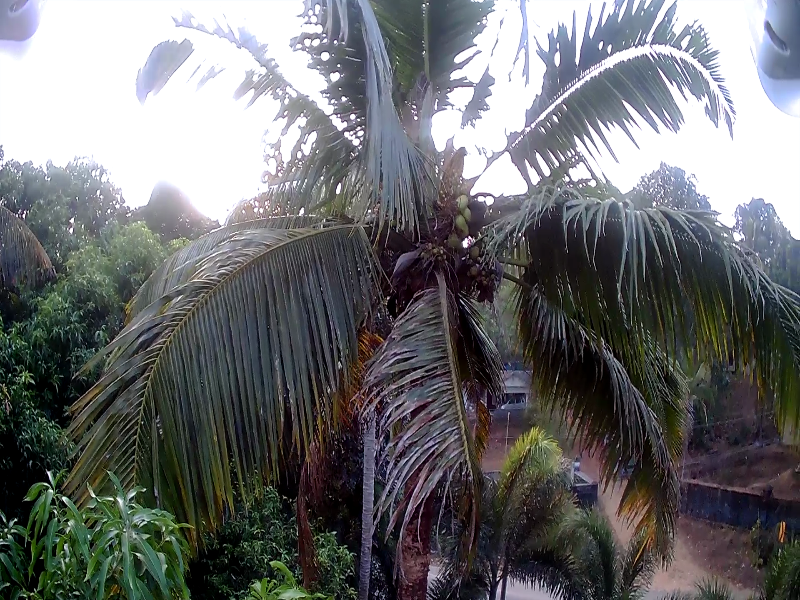coconut: (445, 227, 460, 246), (467, 241, 477, 254), (454, 193, 463, 207), (468, 261, 478, 271), (456, 222, 467, 231), (459, 206, 468, 216), (453, 218, 461, 227)
